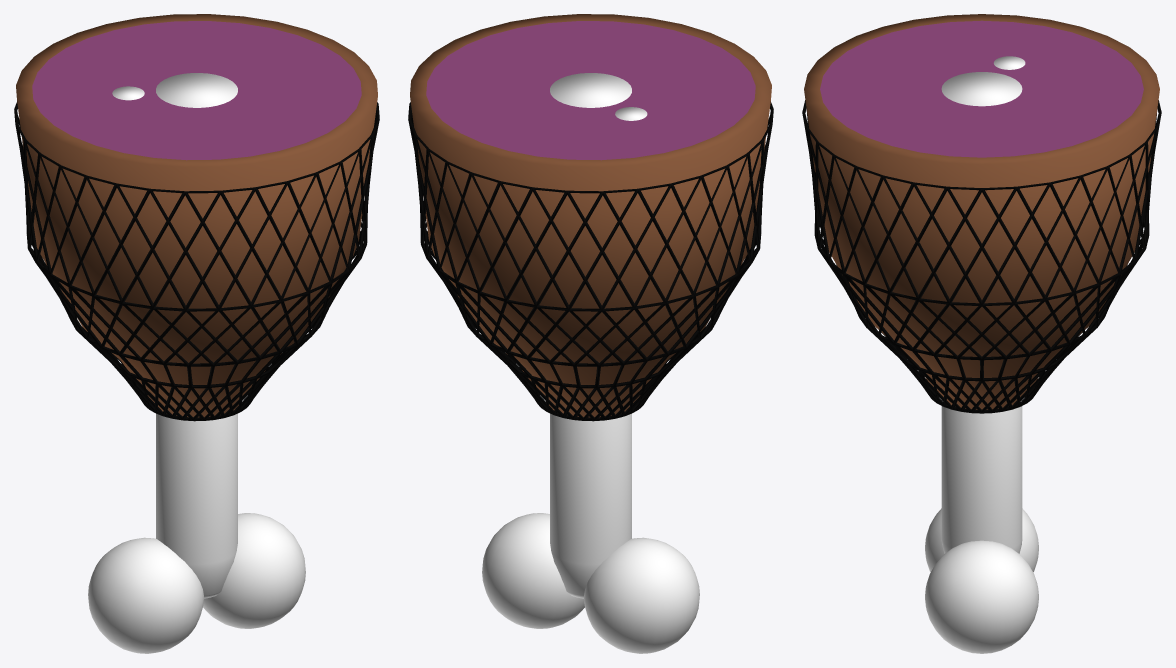
Rendered from ham bat.fbx.
3 renders of one model, left to right at view 1: azimuth 30°, elevation 25°; view 2: azimuth 150°, elevation 25°; view 3: azimuth 270°, elevation 25°, orthographic.
Visible parts, largest first — view 1: Cylinder; view 2: Cylinder; view 3: Cylinder.
Part boxes in pixels (bbox=[...]): Cylinder: bbox=[14, 14, 379, 653]; Cylinder: bbox=[408, 14, 773, 653]; Cylinder: bbox=[802, 14, 1161, 653].
Size of the model in its own units: 90.35 by 149 by 90.35.
